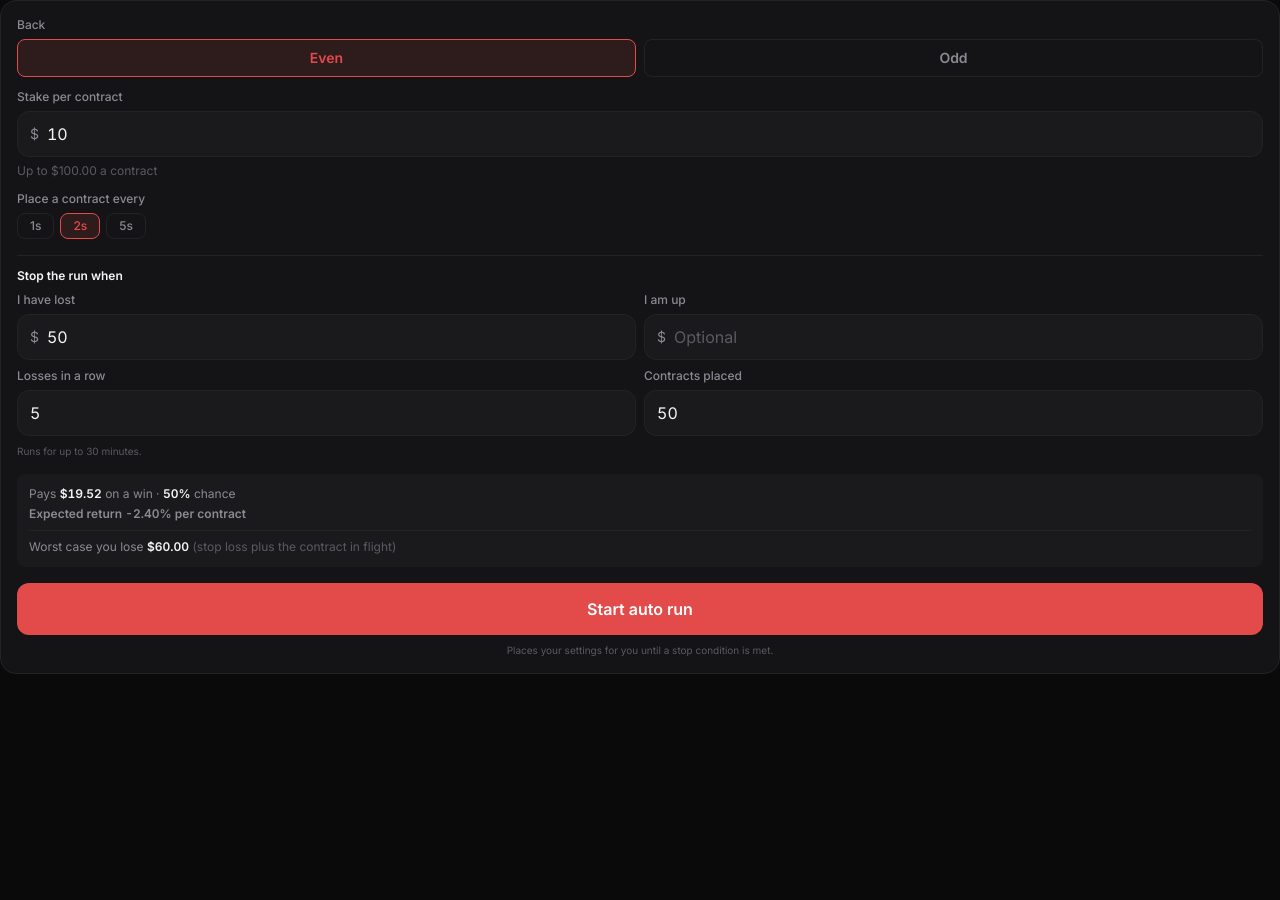
it: BotTicket › validation › treats an empty take profit as not set, and a zero as a mistake
This screenshot has width=1280, height=900.
Empty is fine: a run need not have an upper target.
Click the button "Start auto run".
click(640, 609)  # box x1=17 y1=583 x2=1263 y2=635
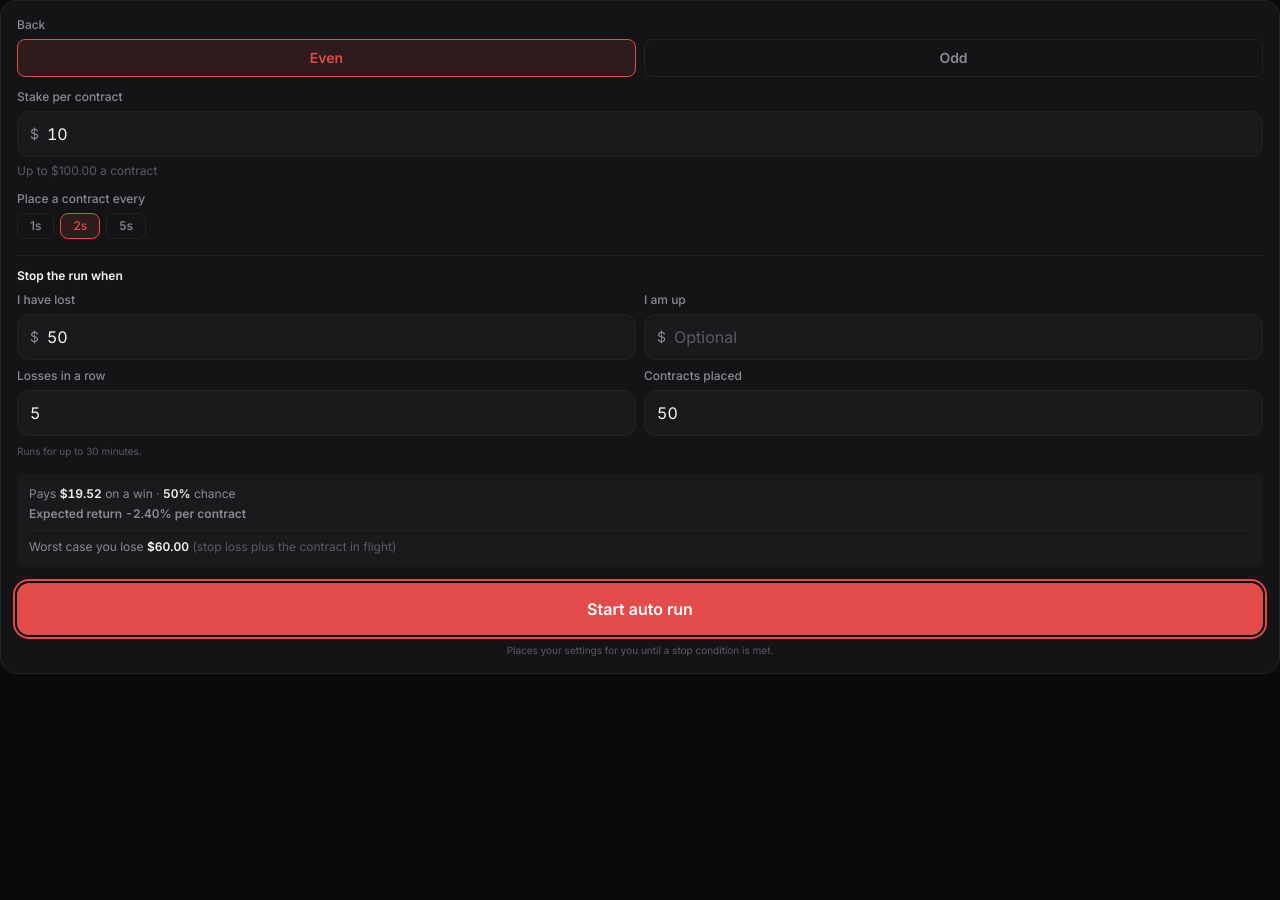
Type "0" into the field labelled "I am up".
click(962, 337); type("0")  # box x1=674 y1=315 x2=1250 y2=359
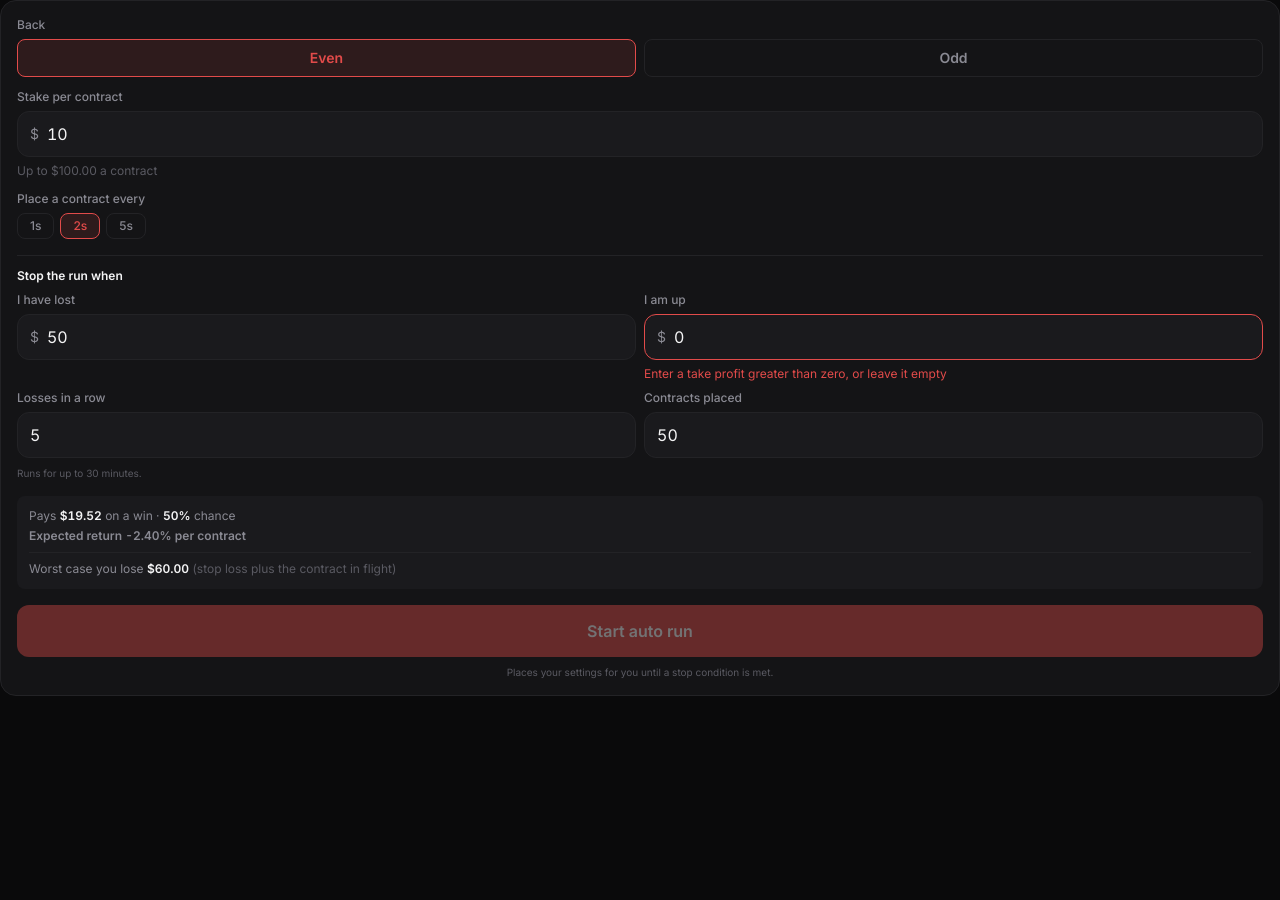
Result: the text "Enter a take profit greater than zero, or leave it empty" is shown at x1=644 y1=366 x2=947 y2=381
